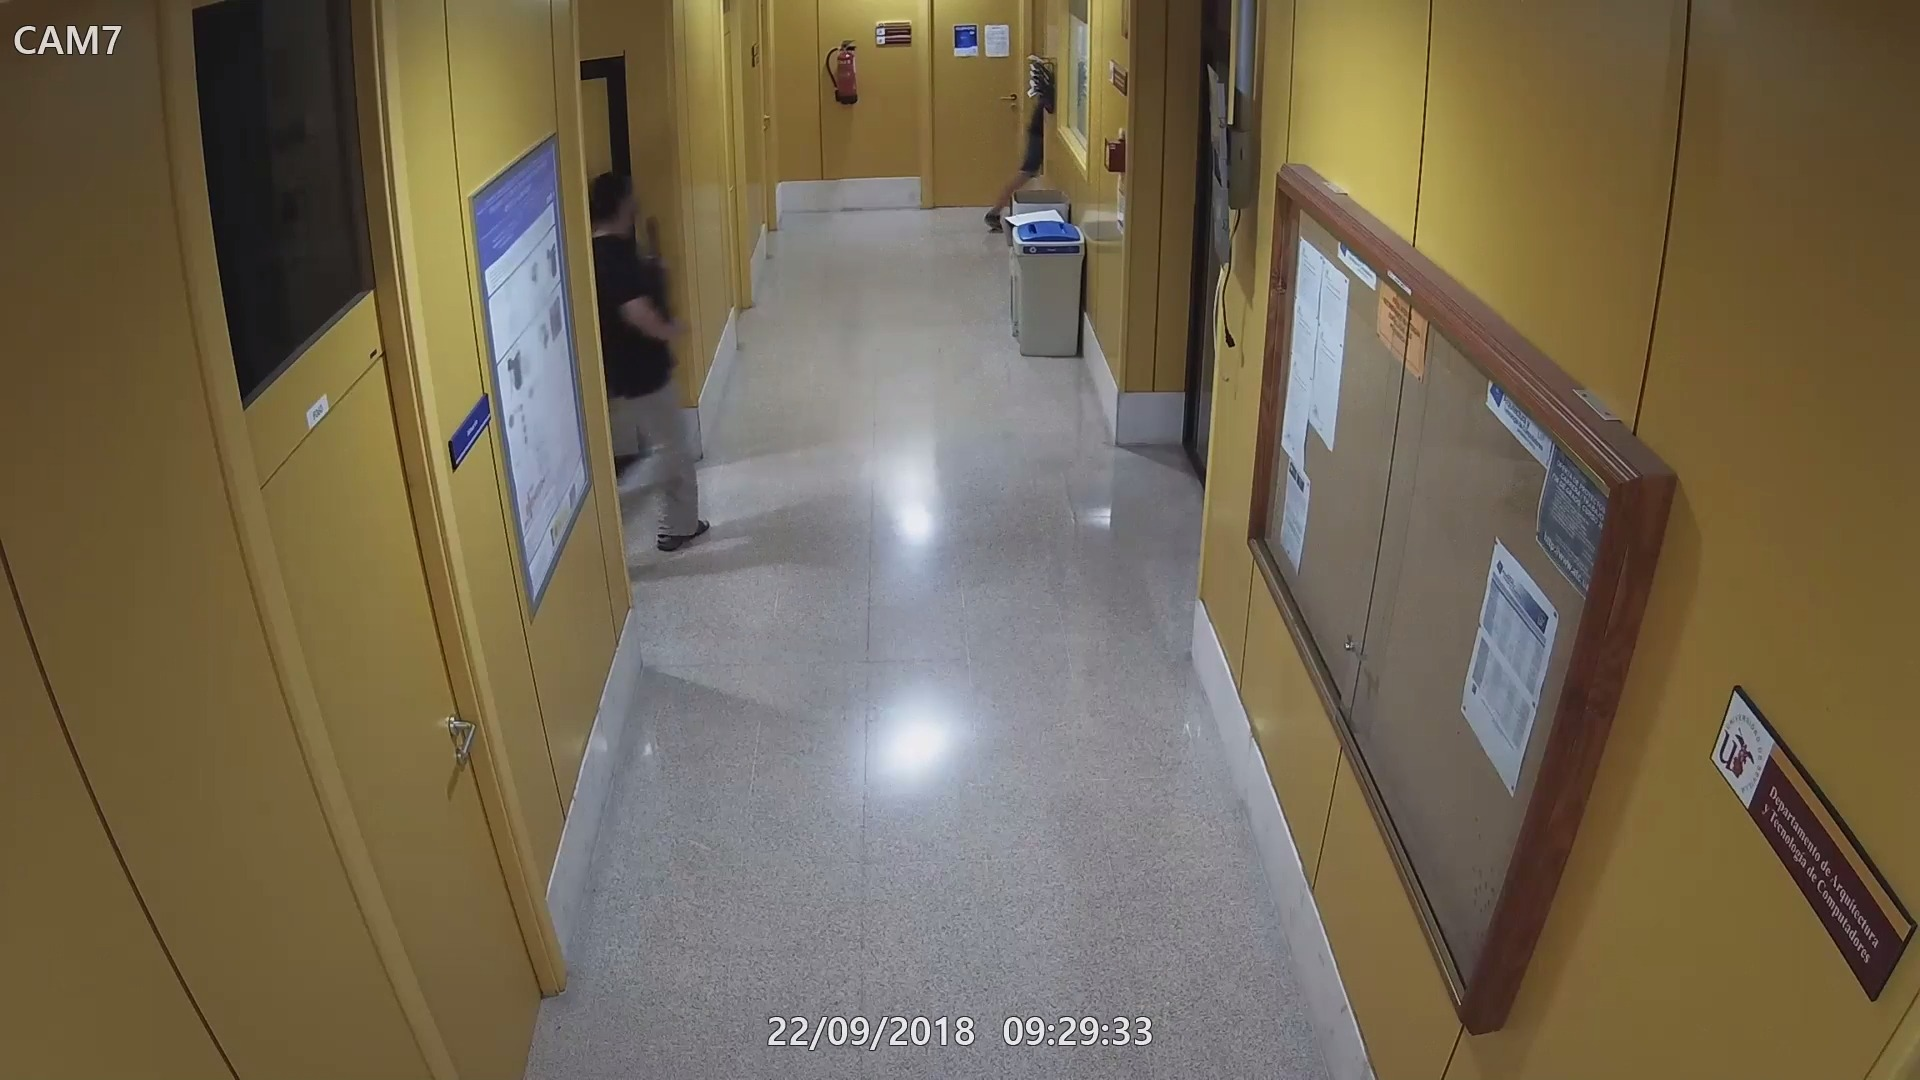rifle: (640, 212, 676, 336)
